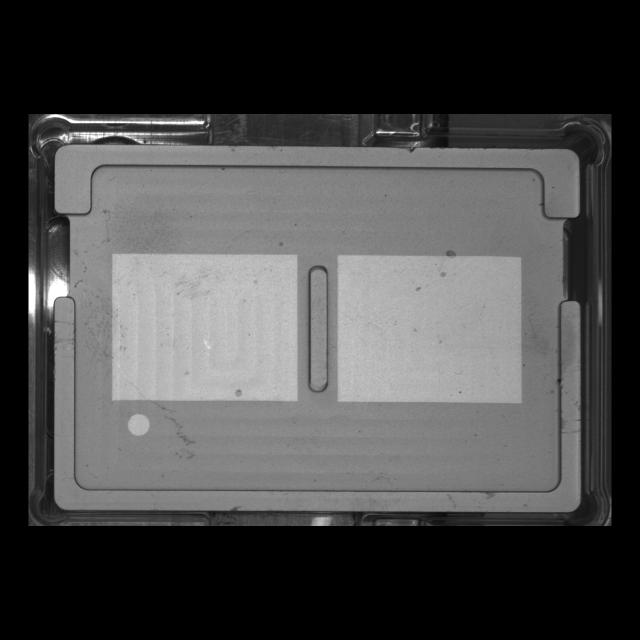door: (49, 136, 590, 232)
point: (124, 408, 154, 441)
